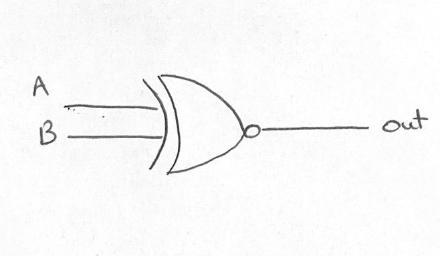XNOR: (130, 63, 268, 185)
